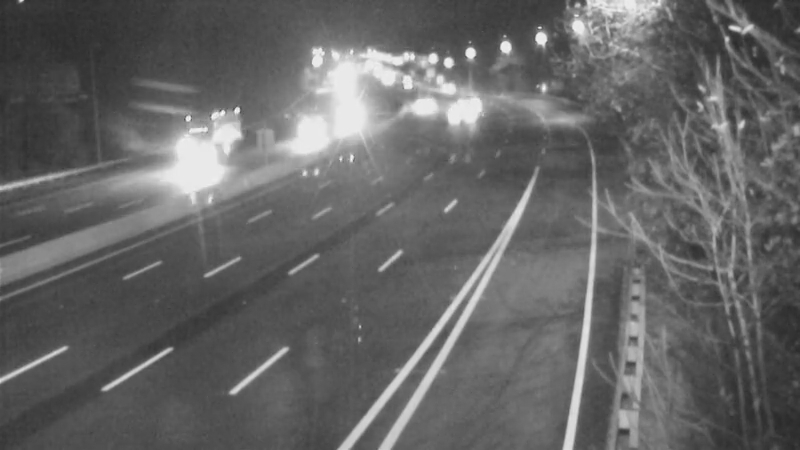vehicle: (150, 132, 230, 212), (385, 56, 435, 106), (424, 62, 474, 112), (397, 81, 447, 131), (434, 89, 484, 139), (168, 121, 218, 171), (285, 107, 335, 157), (319, 87, 369, 137)
